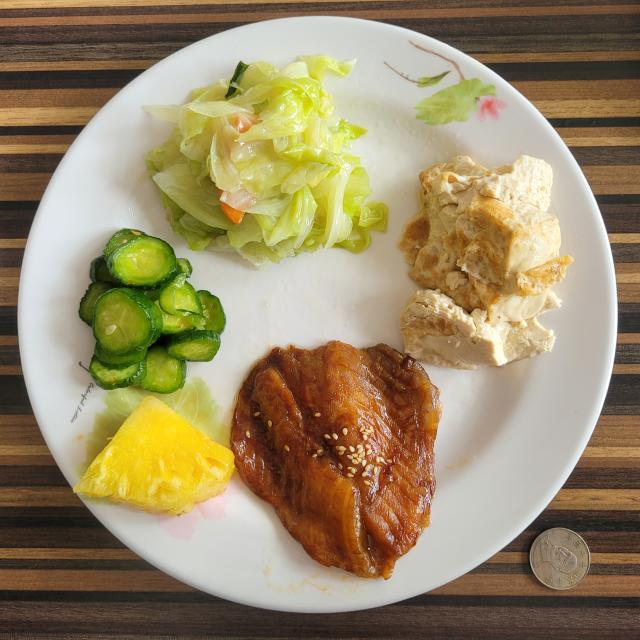Kabayaki sea bream fillet: (231, 341, 441, 579)
cabbage: (144, 55, 388, 268)
coin: (530, 528, 590, 590)
cucumber: (79, 229, 225, 392)
pineapple: (74, 396, 235, 516)
